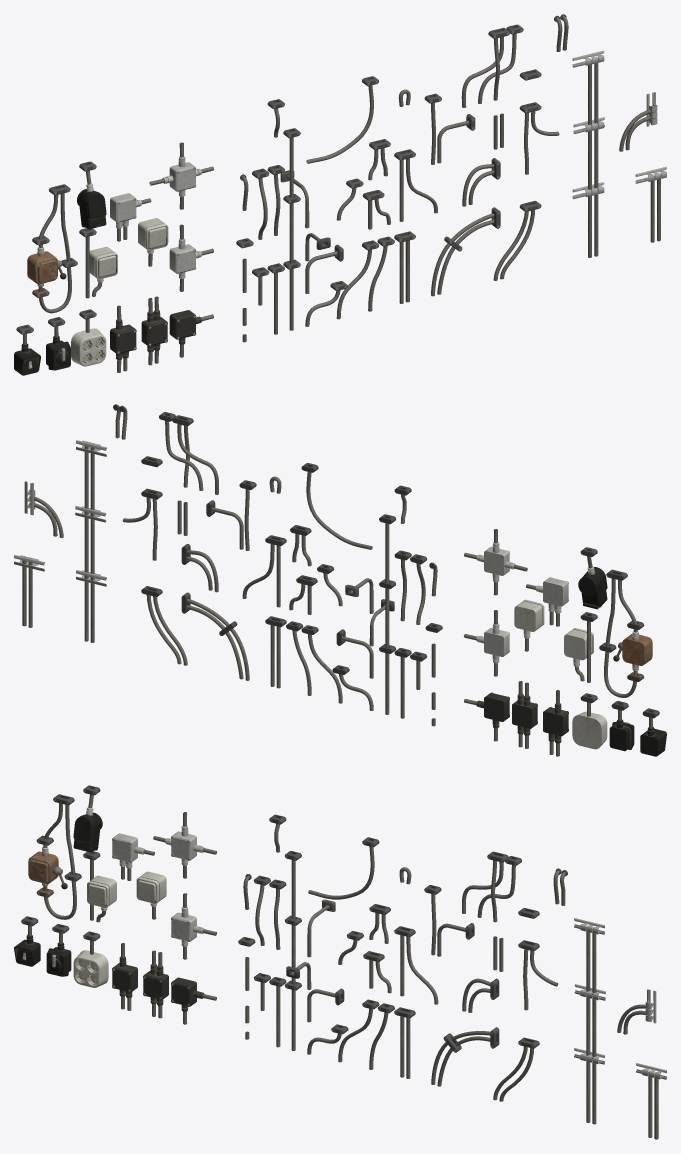
The picture shows the model from 3 angles, top to bottom: view 1: azimuth 30°, elevation 25°; view 2: azimuth 150°, elevation 25°; view 3: azimuth 330°, elevation 25°; orthographic projection.
Parts seen in each view (by area): view 1: cable_double_alt_long, cable_switch, cable_plug_4x, cable_3way_junction, cable_lightswitch_double, cable_straight_long, cable_plug_covered_2, cable_double_turn_long, cable_box_double, cable_box_4way, cable_box_3way, cable_box_double_to_single (+14 smaller); view 2: cable_double_alt_long, cable_switch, cable_3way_junction, cable_plug_4x, cable_straight_long, cable_lightswitch_double, cable_double_turn_long, cable_plug_covered_2, cable_box_double, cable_box_4way, cable_box_double_to_single_2, cable_box_3way (+14 smaller); view 3: cable_double_alt_long, cable_switch, cable_plug_4x, cable_3way_junction, cable_straight_long, cable_plug_covered_2, cable_lightswitch_double, cable_box_4way, cable_box_double, cable_double_turn_long, cable_box_3way, cable_box_double_to_single (+14 smaller).
Boxes of the visible parts, <box> form: cable_double_alt_long: <box>572,50,604,257</box>; cable_switch: <box>27,184,77,313</box>; cable_plug_4x: <box>71,309,106,366</box>; cable_3way_junction: <box>461,24,523,107</box>; cable_lightswitch_double: <box>79,228,117,298</box>; cable_straight_long: <box>283,128,300,330</box>; cable_plug_covered_2: <box>77,161,106,228</box>; cable_double_turn_long: <box>431,207,500,296</box>; cable_box_double: <box>141,296,167,365</box>; cable_box_4way: <box>149,142,213,209</box>; cable_box_3way: <box>169,224,213,291</box>; cable_box_double_to_single: <box>110,305,136,372</box>; cable_double_alt_long: <box>75,440,106,642</box>; cable_switch: <box>599,569,652,697</box>; cable_3way_junction: <box>159,412,218,494</box>; cable_plug_4x: <box>572,693,607,749</box>; cable_straight_long: <box>379,514,396,714</box>; cable_lightswitch_double: <box>564,612,597,682</box>; cable_double_turn_long: <box>181,592,249,680</box>; cable_plug_covered_2: <box>578,547,607,609</box>; cable_box_double: <box>512,681,537,748</box>; cable_box_4way: <box>464,529,527,595</box>; cable_box_double_to_single_2: <box>526,577,568,626</box>; cable_box_3way: <box>464,610,509,676</box>; cable_double_alt_long: <box>574,918,605,1124</box>; cable_switch: <box>28,794,81,919</box>; cable_plug_4x: <box>73,931,108,987</box>; cable_3way_junction: <box>462,851,521,922</box>; cable_straight_long: <box>284,851,301,1050</box>; cable_plug_covered_2: <box>73,785,102,852</box>; cable_lightswitch_double: <box>83,851,116,922</box>; cable_box_4way: <box>153,812,216,878</box>; cable_box_double: <box>143,950,168,1018</box>; cable_double_turn_long: <box>431,1027,499,1086</box>; cable_box_3way: <box>171,893,216,959</box>; cable_box_double_to_single: <box>112,943,137,1010</box>.
Bounding box in the file's own units: 2.08 × 0.7573 × 0.2145.
2 materials, 2 textured.
